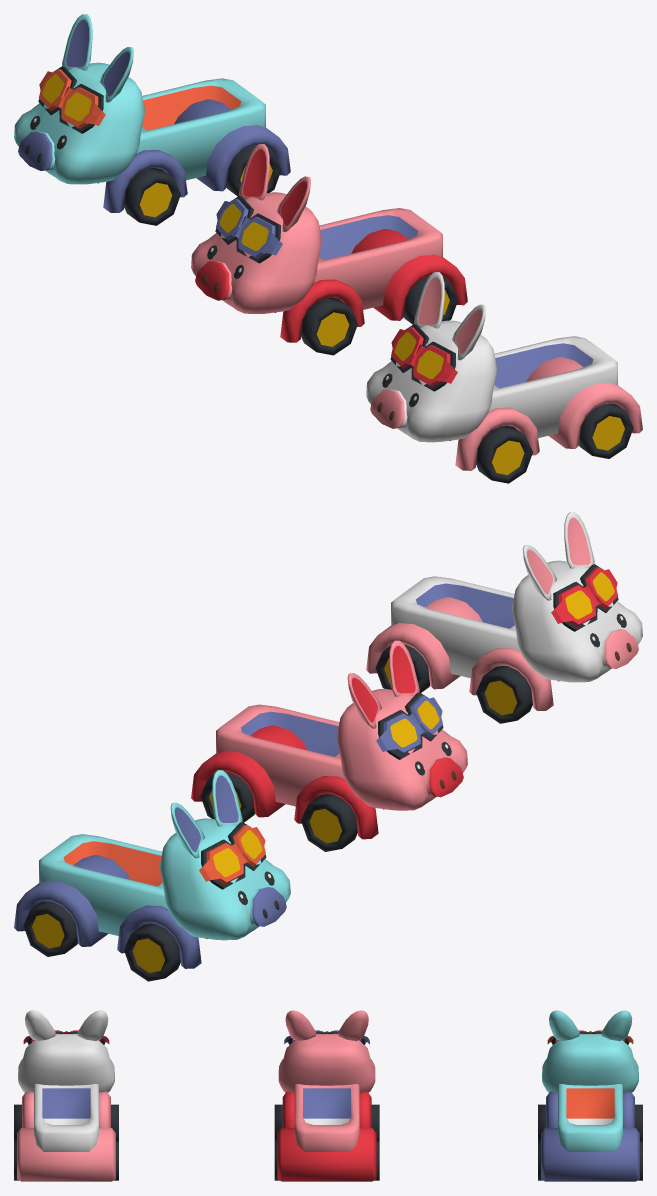
File: park_pigCart.fbx
The picture shows the model from 3 angles, top to bottom: view 1: azimuth 30°, elevation 25°; view 2: azimuth 150°, elevation 25°; view 3: azimuth 270°, elevation 25°; orthographic projection. The views are drawn at different scales.
Visible parts, largest first — view 1: Pig, Pig.001, Pig.002, Pig_cart.001, Pig_cart, Pig_cart.002, Cylinder.015, Cylinder.003, Cylinder.009, Cylinder.017, Cylinder.011, Cylinder.004 (+15 smaller); view 2: Pig.002, Pig.001, Pig, Pig_cart.002, Pig_cart, Pig_cart.001, Cylinder.003, Cylinder.009, Cylinder.015, Cylinder.011, Cylinder.017, Cylinder.004 (+15 smaller); view 3: Pig.001, Pig, Pig.002, Pig_cart.001, Pig_cart, Pig_cart.002, Cylinder.009, Cylinder.003, Cylinder.015, Cube, Cube.006, Cube.004 (+7 smaller).
Part boxes in pixels (<box>): Pig: <box>14,62,144,184</box>; Pig.001: <box>191,192,321,313</box>; Pig.002: <box>366,320,496,442</box>; Pig_cart.001: <box>314,208,442,309</box>; Pig_cart: <box>136,78,265,180</box>; Pig_cart.002: <box>489,336,617,437</box>; Cylinder.015: <box>526,357,642,448</box>; Cylinder.003: <box>174,99,290,191</box>; Cylinder.009: <box>351,229,467,320</box>; Cylinder.017: <box>449,425,532,483</box>; Cylinder.011: <box>275,297,357,355</box>; Cylinder.004: <box>97,168,180,225</box>; Pig.002: <box>512,560,642,682</box>; Pig.001: <box>337,689,467,810</box>; Pig: <box>160,818,290,940</box>; Pig_cart.002: <box>391,576,519,678</box>; Pig_cart: <box>39,834,167,935</box>; Pig_cart.001: <box>216,704,344,806</box>; Cylinder.003: <box>14,855,130,946</box>; Cylinder.009: <box>191,725,307,817</box>; Cylinder.015: <box>366,597,482,689</box>; Cylinder.011: <box>301,794,384,851</box>; Cylinder.017: <box>476,666,559,723</box>; Cylinder.004: <box>124,923,207,981</box>; Pig.001: <box>278,1034,375,1092</box>; Pig: <box>542,1034,638,1092</box>; Pig.002: <box>18,1034,114,1092</box>; Pig_cart.001: <box>294,1084,359,1151</box>; Pig_cart: <box>558,1084,622,1151</box>; Pig_cart.002: <box>34,1084,98,1151</box>; Cylinder.009: <box>277,1128,376,1181</box>; Cylinder.003: <box>541,1128,639,1181</box>; Cylinder.015: <box>17,1128,115,1181</box>; Cube: <box>549,1010,632,1041</box>; Cube.006: <box>25,1010,108,1041</box>; Cube.004: <box>285,1010,368,1041</box>.
Size of the model in its own units: 326 by 232 by 1034.
